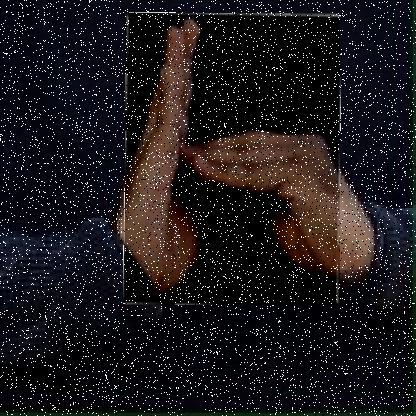Z: (125, 13, 341, 306)
